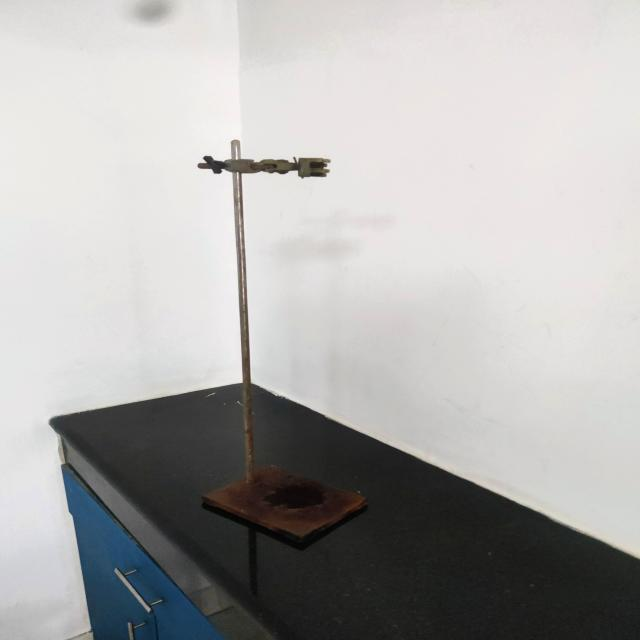Burette_Stands: (172, 128, 368, 551)
